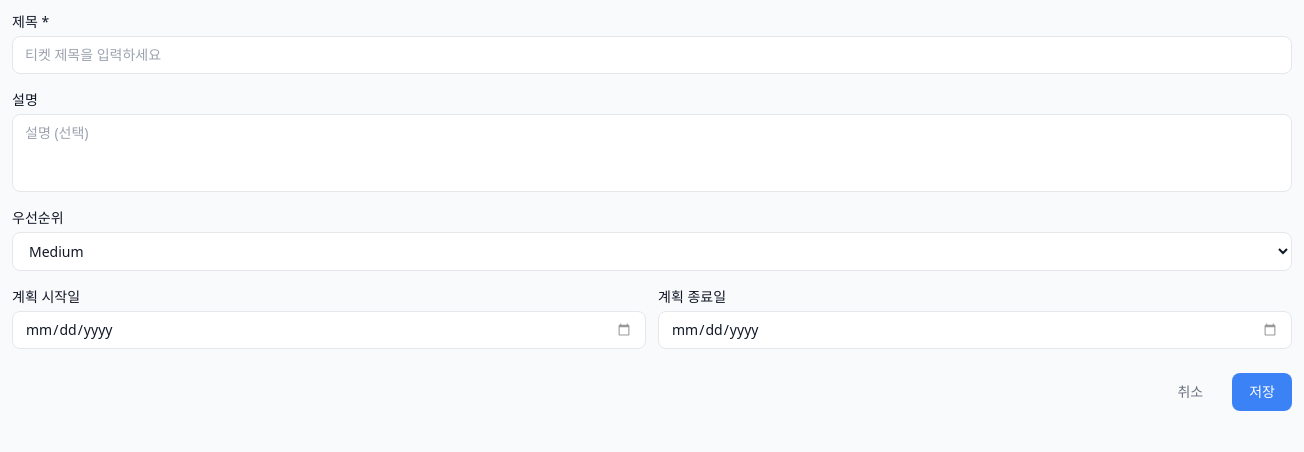
Test: TicketForm › C004-4: 과거 종료예정일 제출 → "종료예정일은 오늘 이후 날짜를 선택해주세요." 에러가 표시된다
Type "제목 입력" into the field with placeholder "티켓 제목을 입력하세요". click: (652, 55)
box: [12, 36, 1292, 74]
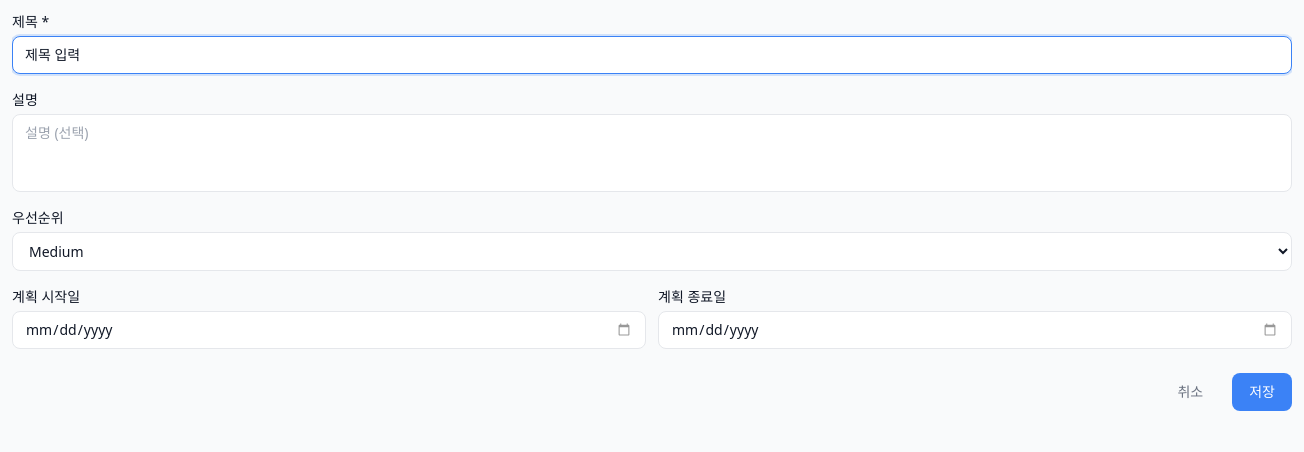
Type "2024-01-01" into the date field below "계획 종료일". click: (975, 330)
box: [658, 311, 1292, 349]
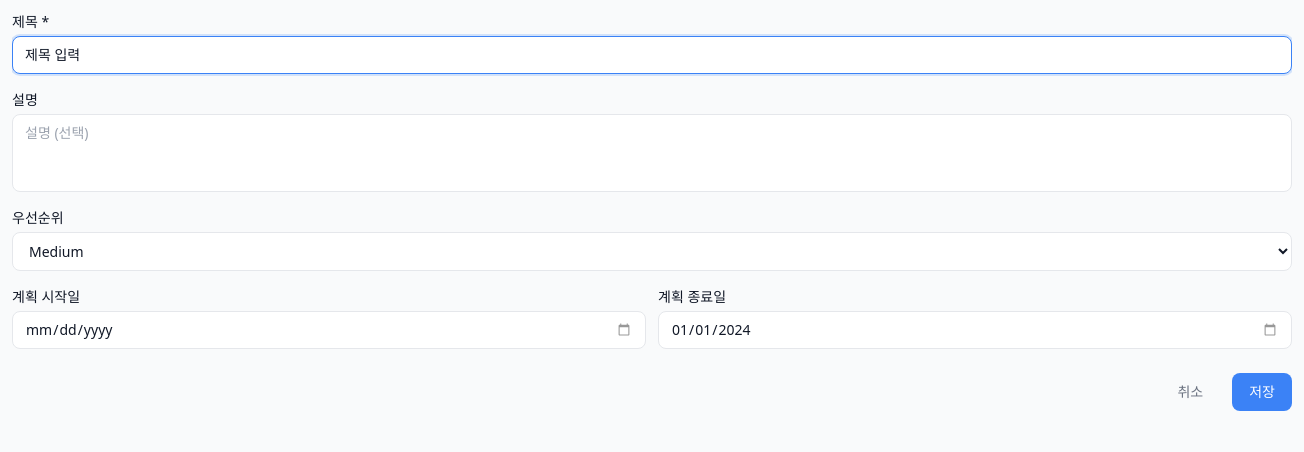
Click the button "저장". click: click(1262, 392)
box: [1232, 373, 1292, 411]
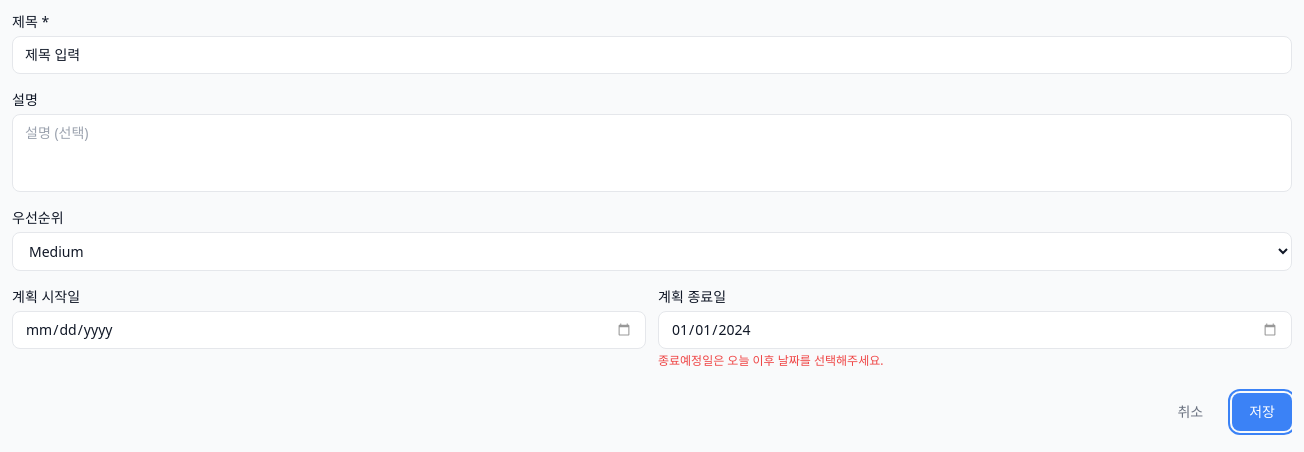
Now the message reads "종료예정일은 오늘 이후 날짜를 선택해주세요.", box [658, 352, 884, 369]
